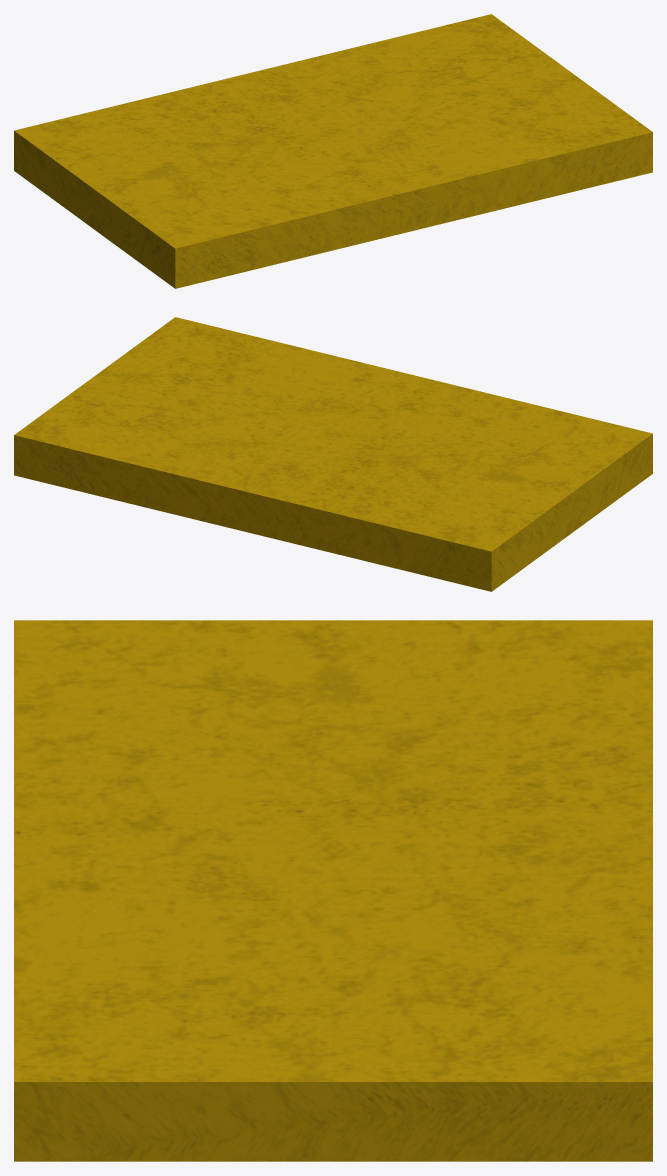
Rendered from ceiling_dinroom_with_texture_gold.fbx.
The picture shows the model from 3 angles, top to bottom: view 1: azimuth 30°, elevation 25°; view 2: azimuth 150°, elevation 25°; view 3: azimuth 270°, elevation 25°; orthographic projection. The views are drawn at different scales.
Visible parts, largest first — view 1: ceiling_dinroom; view 2: ceiling_dinroom; view 3: ceiling_dinroom.
Boxes of the visible parts, <box> form: ceiling_dinroom: <box>14,14,652,288</box>; ceiling_dinroom: <box>14,317,652,591</box>; ceiling_dinroom: <box>14,620,652,1161</box>.
Size of the model in its own units: 675 by 54.36 by 395.
Materials: 1 (1 with a texture image).
